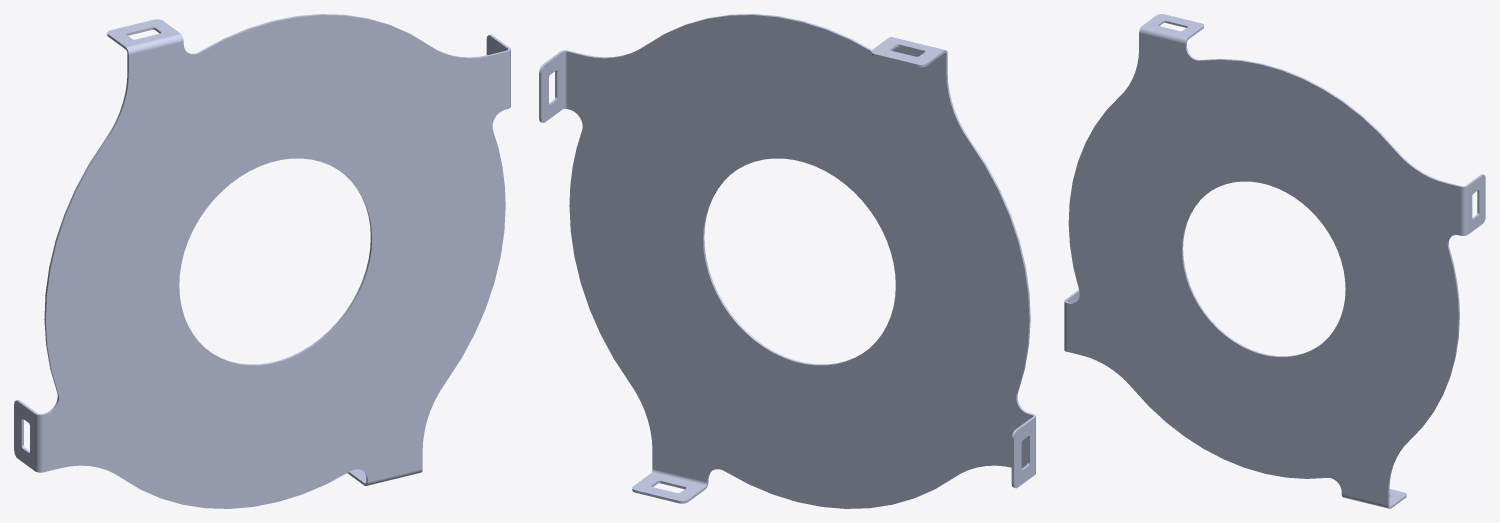
The model's file is REV_21_2100_P03_1_solid1.obj.
3 renders of one model, left to right at view 1: azimuth 30°, elevation 25°; view 2: azimuth 150°, elevation 25°; view 3: azimuth 330°, elevation 25°, orthographic. The views are drawn at different scales.
Parts seen in each view (by area): view 1: mesh22026, mesh22087, mesh22117, mesh22036; view 2: mesh22069, mesh22106, mesh22087, mesh22117, mesh22096, mesh22036; view 3: mesh22026, mesh22107, mesh22117.
Part boxes in pixels (bbox=[...]): mesh22026: bbox=[44, 15, 507, 508]; mesh22087: bbox=[14, 400, 34, 470]; mesh22117: bbox=[107, 19, 179, 46]; mesh22036: bbox=[44, 141, 105, 392]; mesh22069: bbox=[567, 15, 1031, 508]; mesh22106: bbox=[541, 52, 562, 122]; mesh22087: bbox=[1014, 418, 1034, 488]; mesh22117: bbox=[871, 37, 943, 64]; mesh22096: bbox=[632, 473, 704, 501]; mesh22036: bbox=[970, 141, 1030, 392]; mesh22026: bbox=[1067, 33, 1460, 505]; mesh22107: bbox=[1468, 175, 1485, 234]; mesh22117: bbox=[1142, 14, 1203, 37].
Size of the model in its own units: 0.0505 by 0.0505 by 0.00444.
